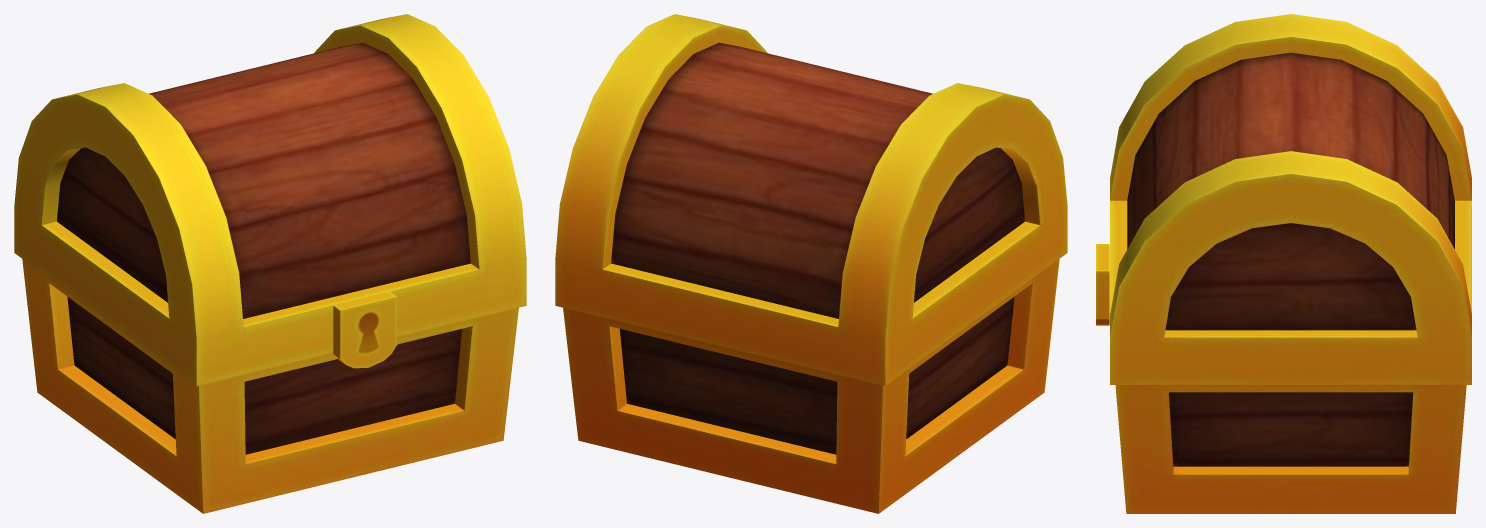
File: treasure-chest.glb
3 views of the same model, side by side, from view 1: azimuth 30°, elevation 25°; view 2: azimuth 150°, elevation 25°; view 3: azimuth 270°, elevation 25° (orthographic).
Bounding box in the file's own units: 1 × 1.01 × 0.9939.
Materials: 1 (1 with a texture image).
